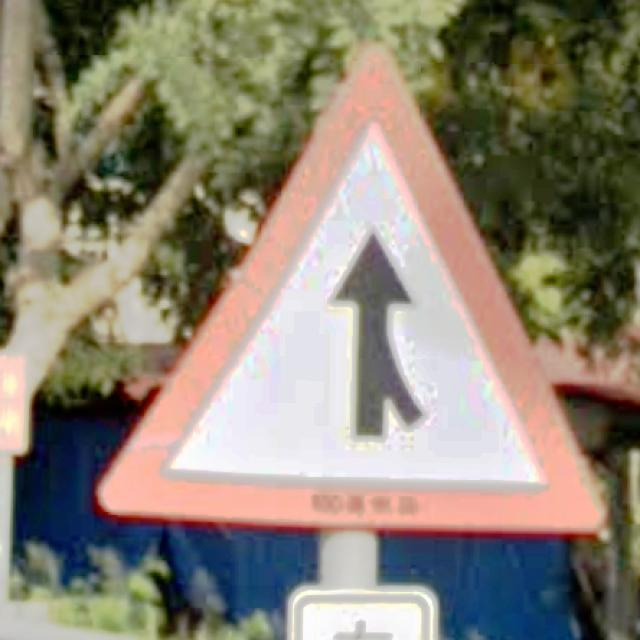rightmerge: (98, 47, 605, 535)
